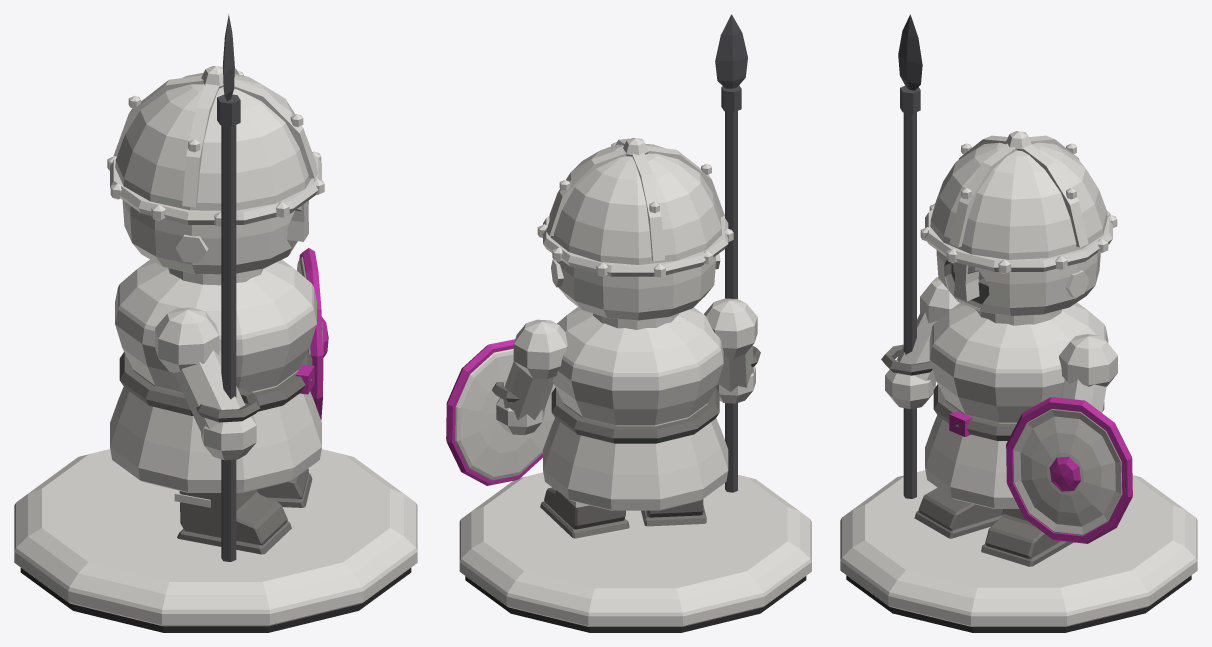
The model's file is pawn_white.glb.
3 renders of one model, left to right at view 1: azimuth 30°, elevation 25°; view 2: azimuth 150°, elevation 25°; view 3: azimuth 270°, elevation 25°, orthographic. The views are drawn at different scales.
Visible parts, largest first — view 1: Pawn_White; view 2: Pawn_White; view 3: Pawn_White.
Part boxes in pixels (bbox=[...]): Pawn_White: bbox=[14, 14, 417, 632]; Pawn_White: bbox=[446, 14, 811, 632]; Pawn_White: bbox=[840, 14, 1197, 632].
Size of the model in its own units: 1.2 by 1.94 by 1.2.
